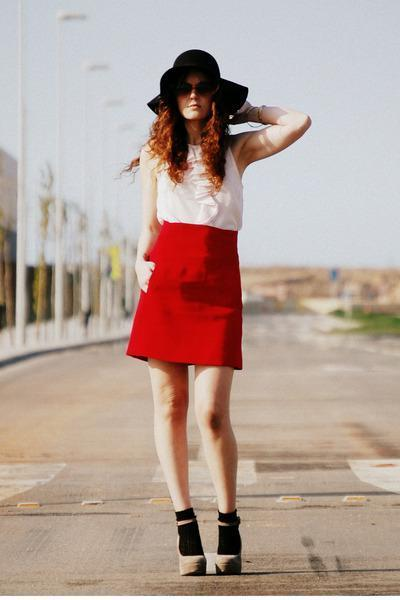skirt: (123, 217, 246, 372)
vest: (145, 136, 248, 226)
